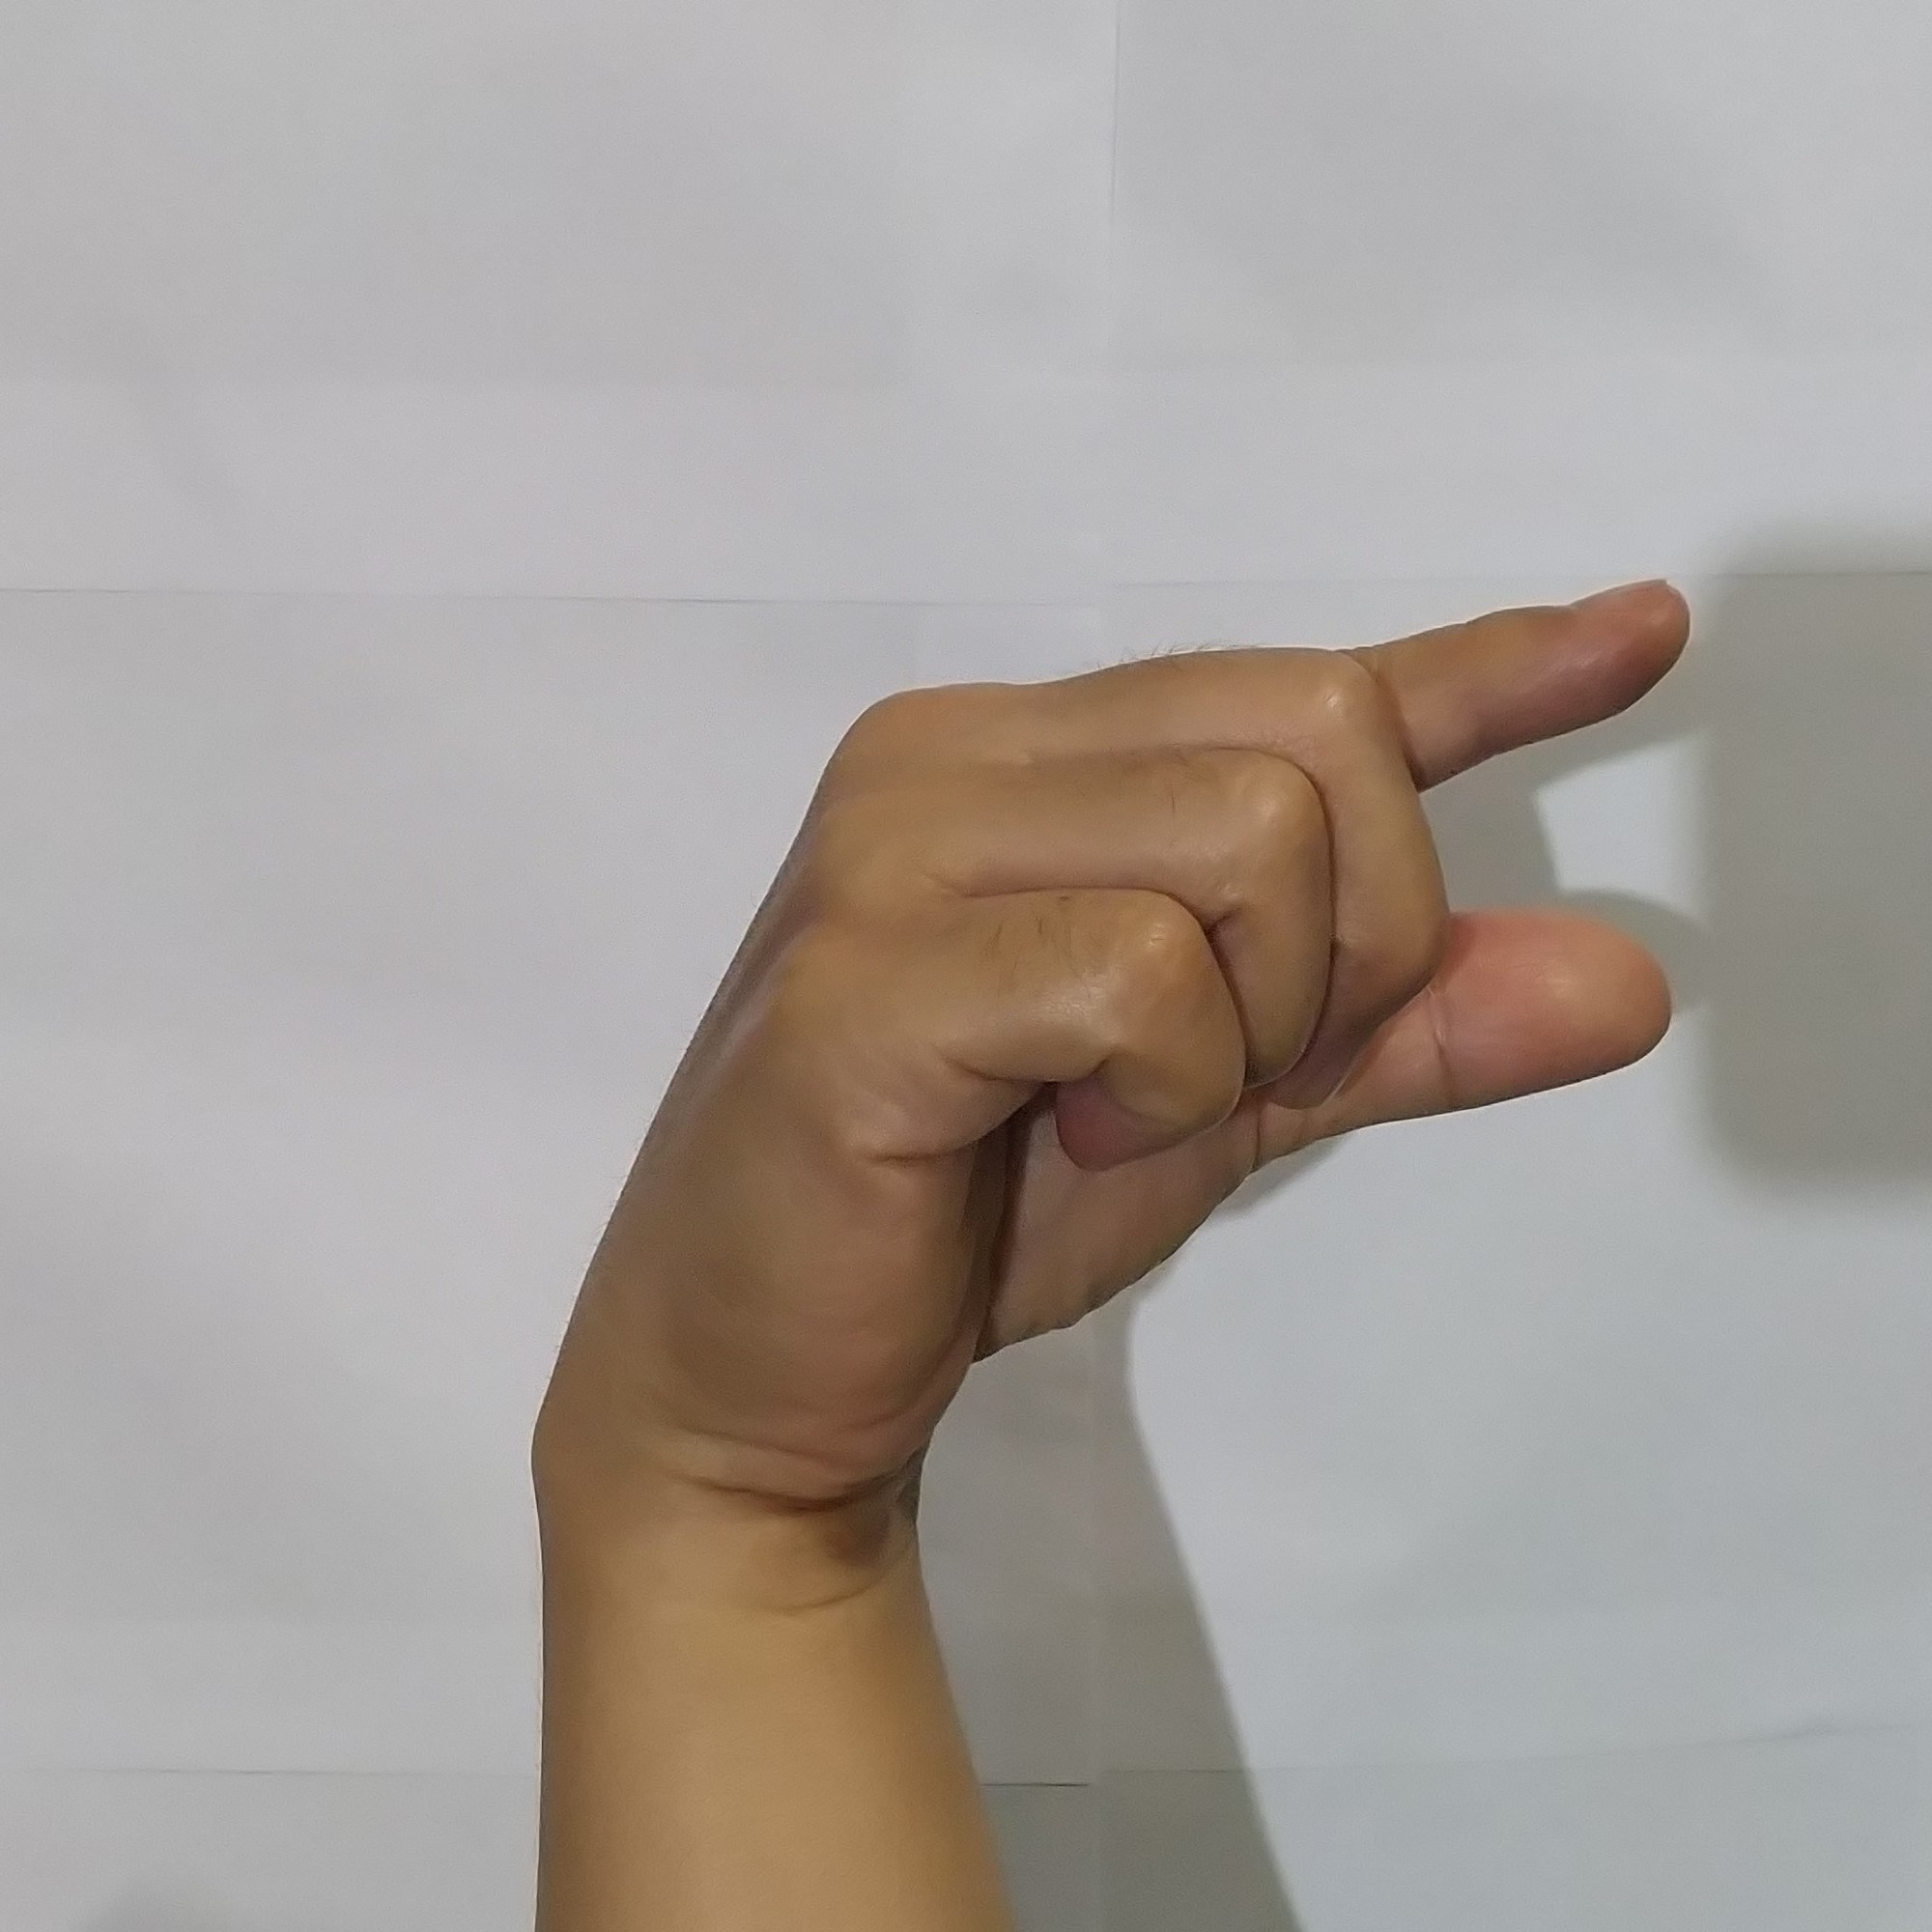G: (529, 540, 1723, 1456)
